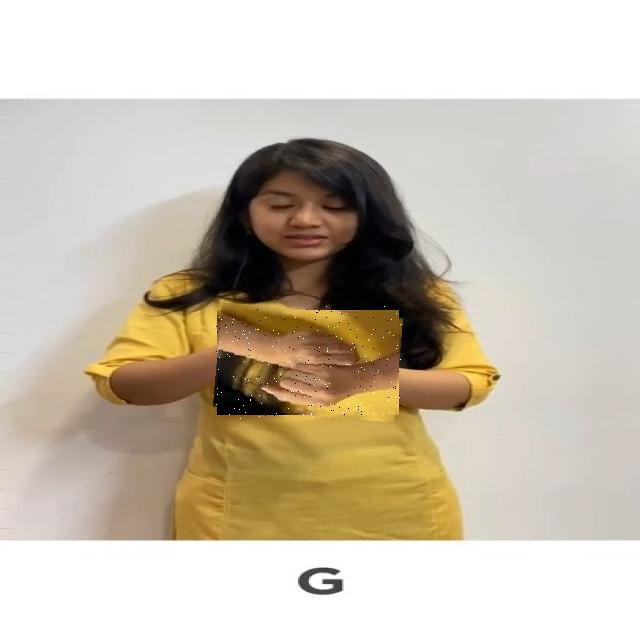G: (215, 306, 401, 419)
